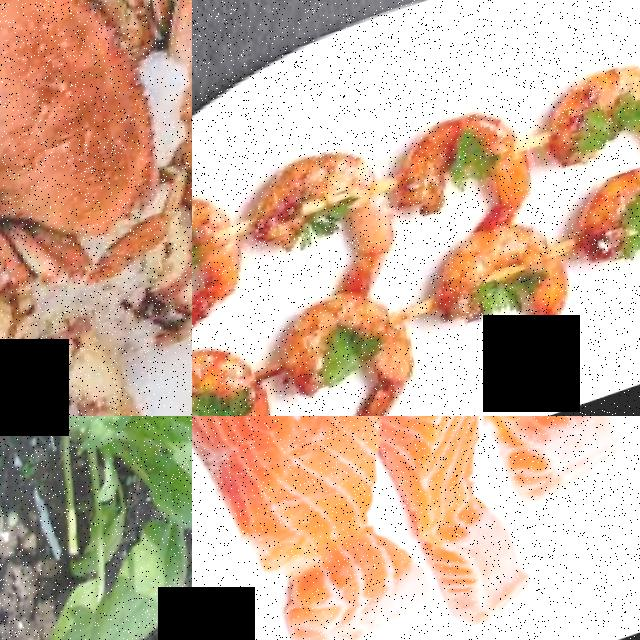crab: (0, 0, 192, 312), (40, 330, 169, 416), (146, 0, 192, 230)
salmon: (192, 416, 442, 591), (337, 416, 525, 501)
shrimp: (429, 210, 609, 404), (248, 130, 424, 305), (388, 89, 558, 244), (270, 282, 455, 416), (538, 45, 640, 200), (192, 173, 276, 360), (572, 166, 640, 372), (192, 323, 318, 416)
spinach: (91, 526, 192, 640)
